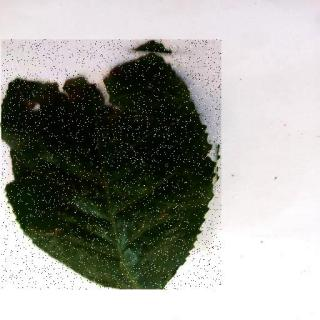Algal Leaf: (2, 41, 222, 291)
